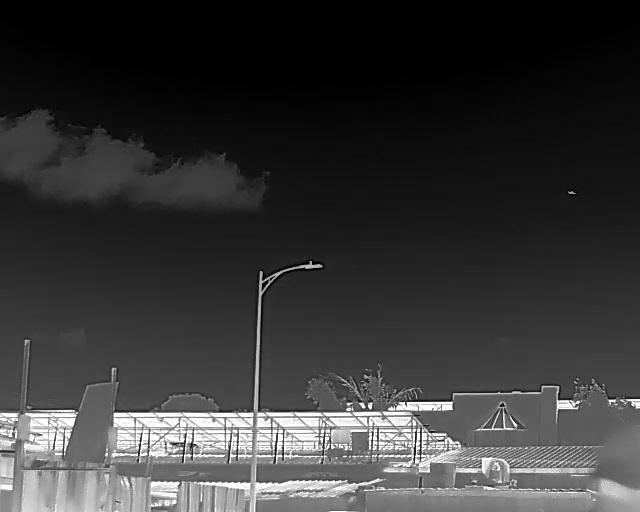fpv-drone: (567, 190, 576, 194)
